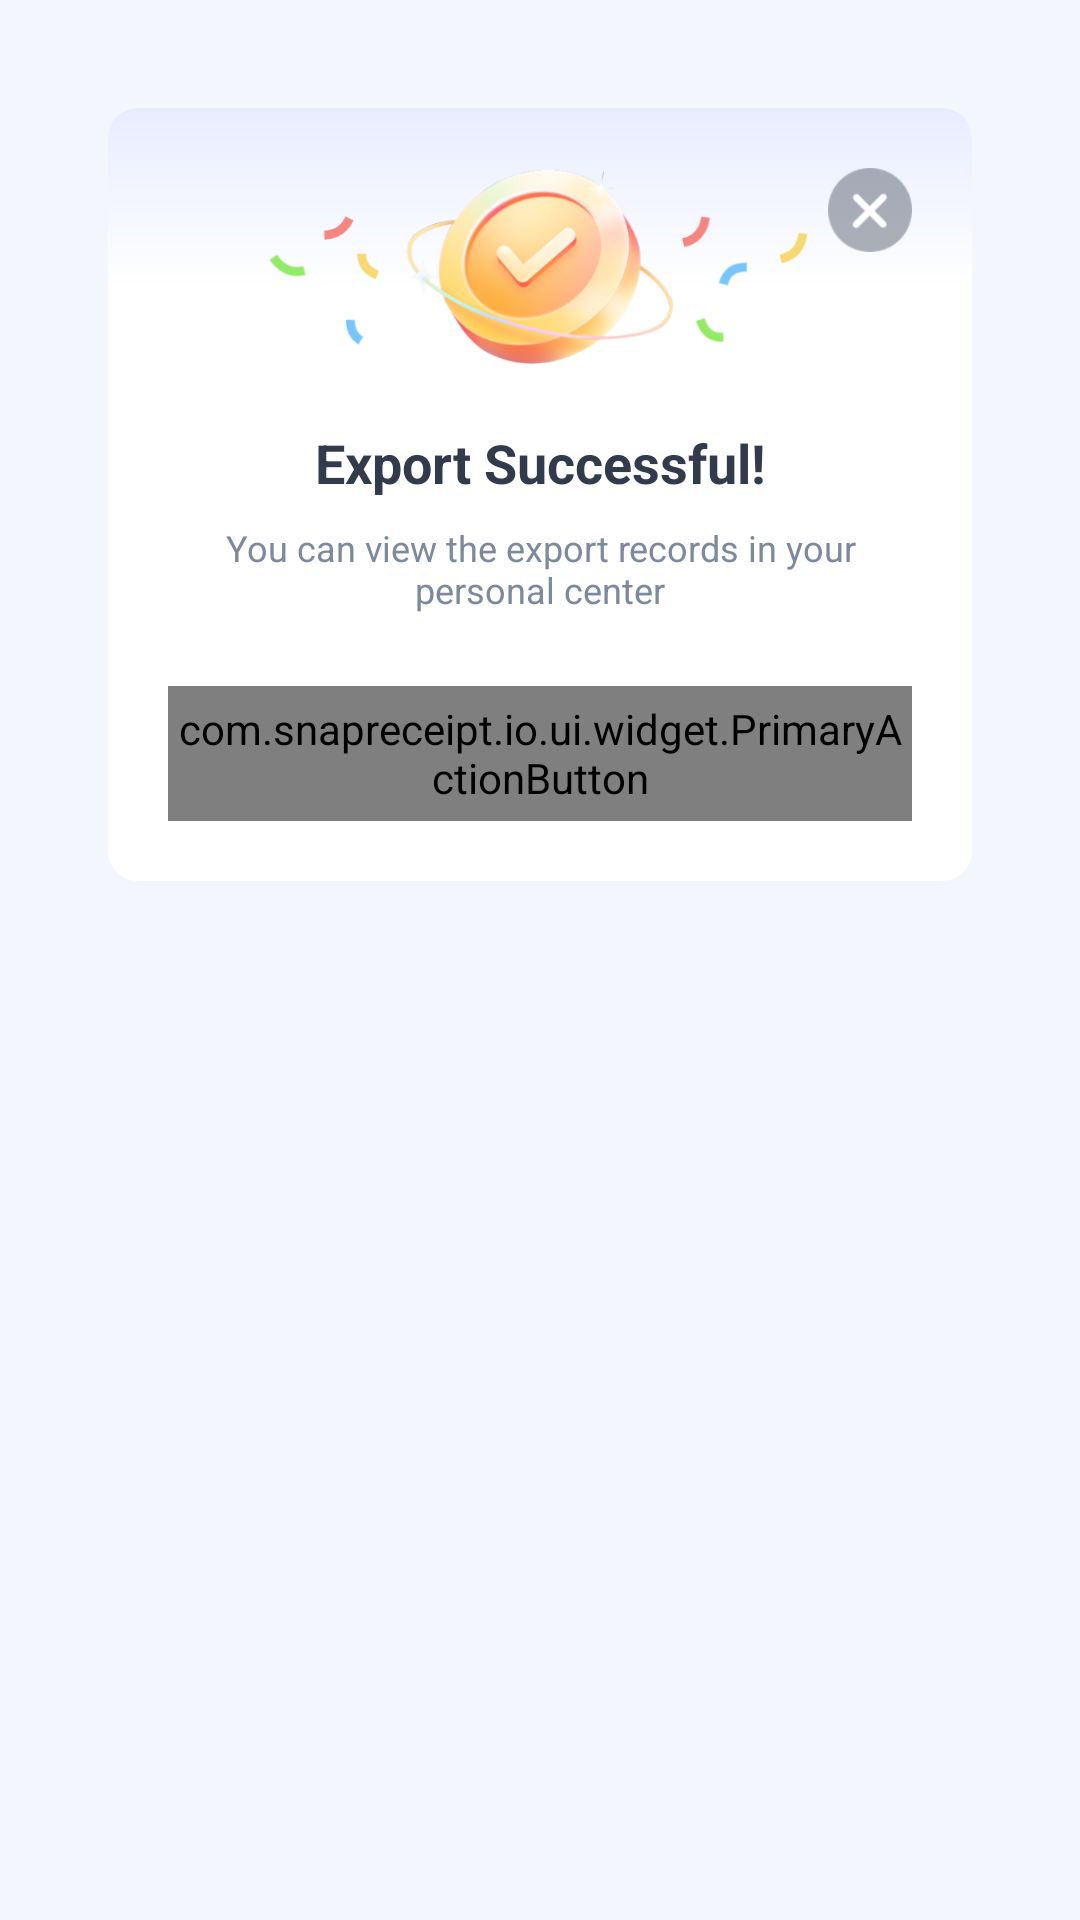

Point at icon controls on the screen. Image size 1080px x 1920px, points as point (x, y).
Cancel: point (870, 210)
